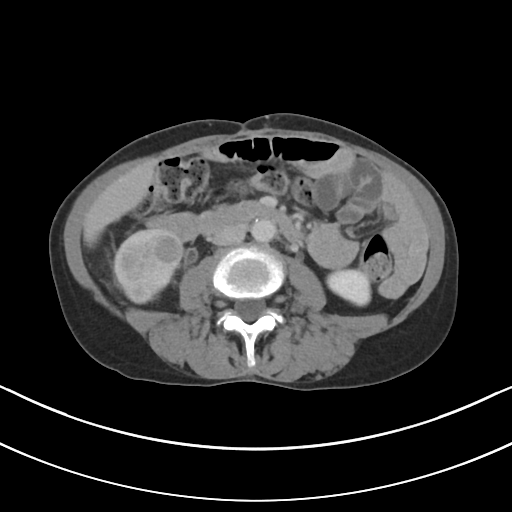Lesion: (151, 235, 185, 264), (124, 277, 153, 304)
